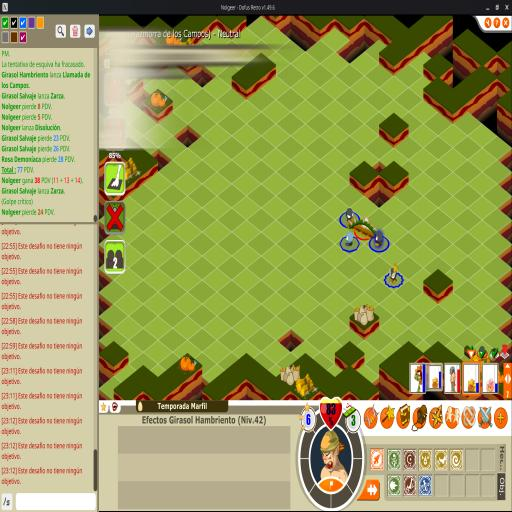Enemigos: (345, 208, 359, 228), (388, 262, 400, 284), (344, 230, 356, 246), (374, 228, 384, 247)
Personaje: (350, 214, 377, 240)
